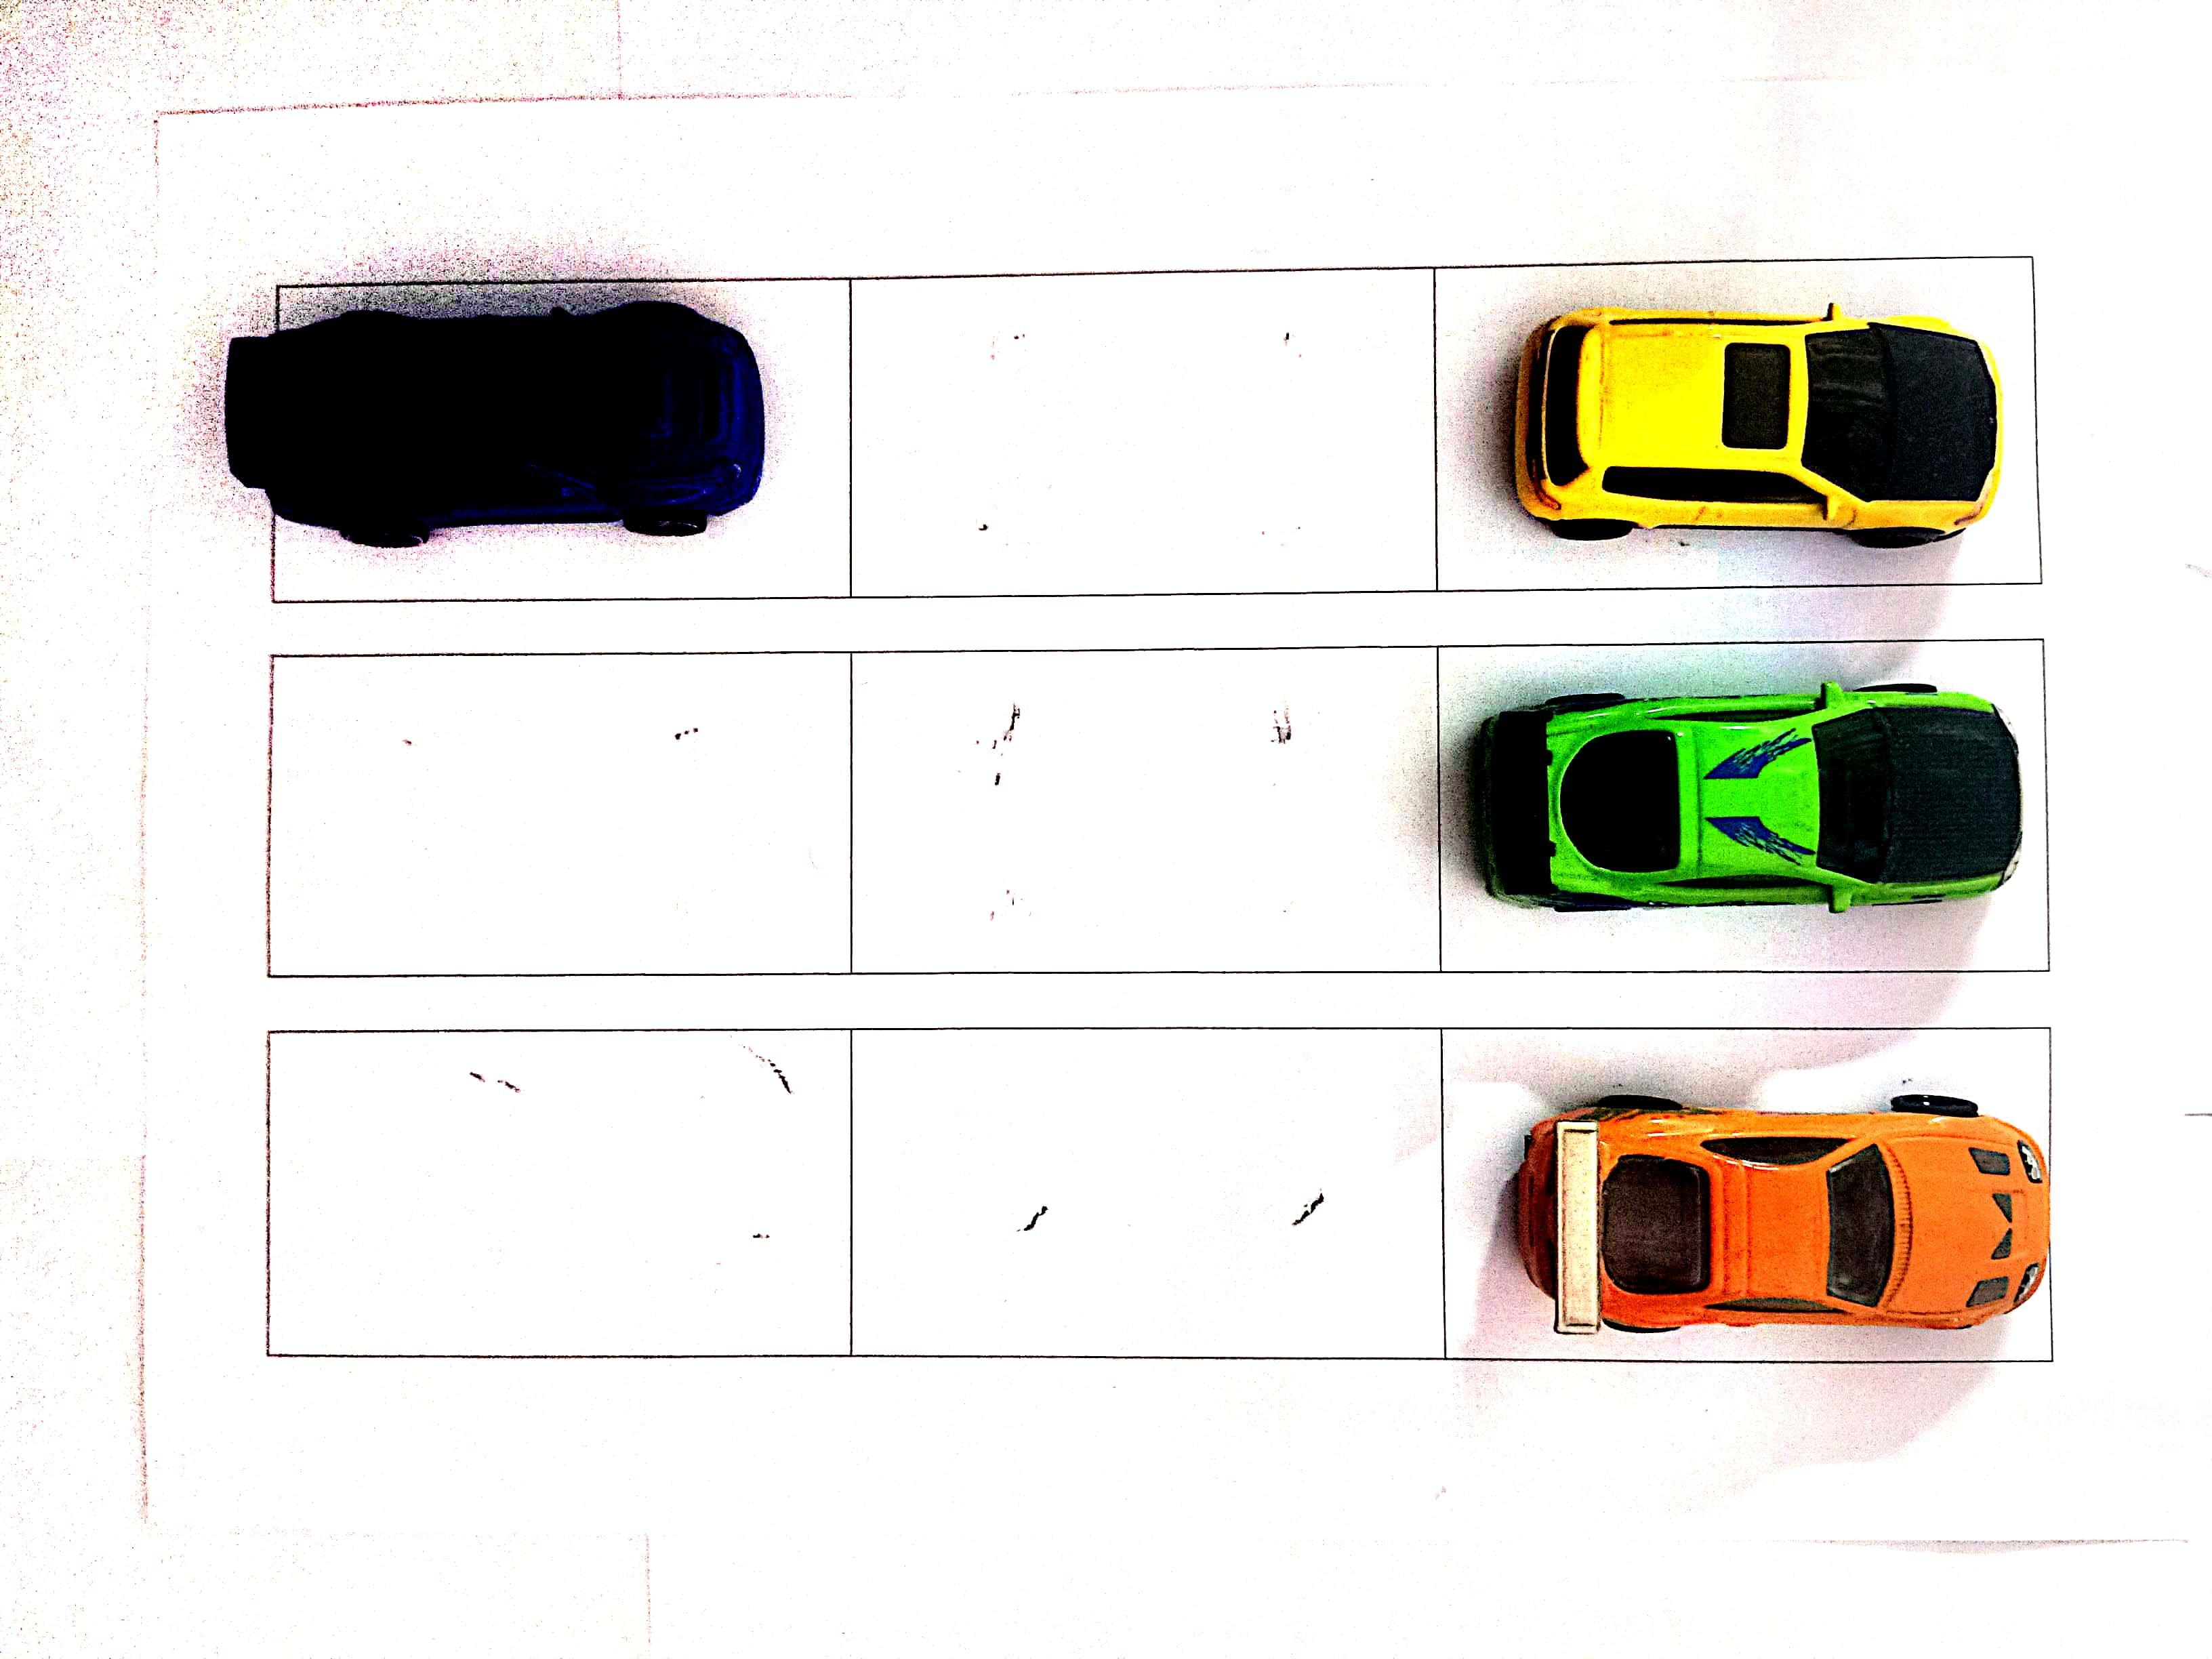Busy: (1446, 249, 2029, 593), (1446, 645, 2045, 972), (1451, 1026, 2047, 1354), (273, 279, 857, 593)
Free: (265, 1026, 852, 1359), (270, 641, 848, 976), (852, 1035, 1446, 1354), (852, 275, 1440, 593), (845, 653, 1437, 967)
